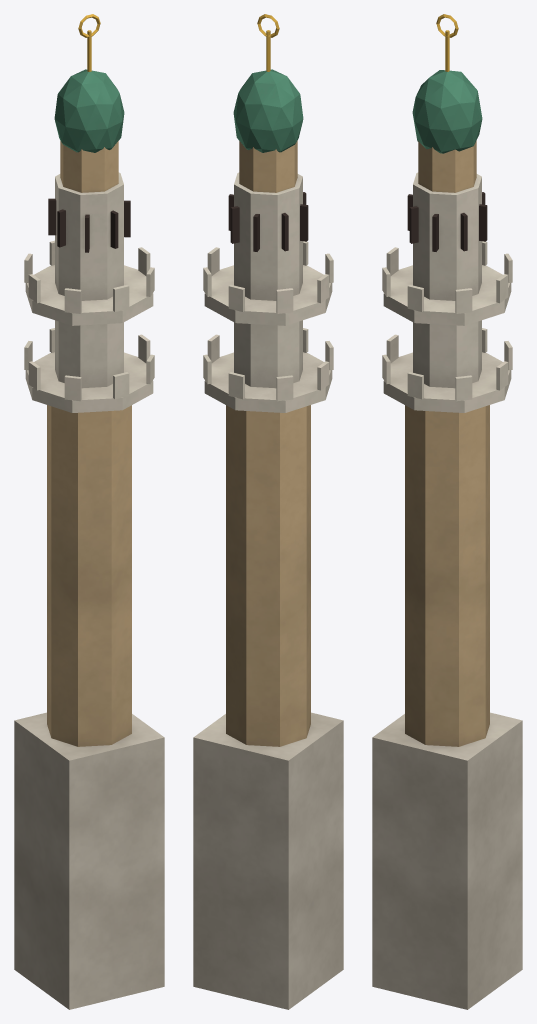
File: minaret_tex.glb
3 views of the same model, side by side, from view 1: azimuth 30°, elevation 25°; view 2: azimuth 150°, elevation 25°; view 3: azimuth 330°, elevation 25° (orthographic).
Visible parts, largest first — view 1: minaret; view 2: minaret; view 3: minaret.
Part boxes in pixels (bbox=[...]): minaret: bbox=[14, 14, 164, 1009]; minaret: bbox=[193, 14, 343, 1009]; minaret: bbox=[372, 14, 522, 1009].
Size of the model in its own units: 4.8 by 38.65 by 4.8.
5 materials, 3 textured.
